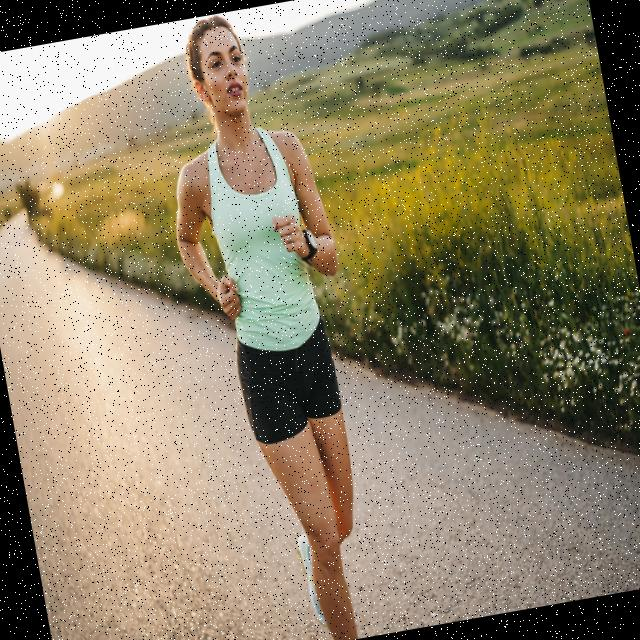Person: (139, 0, 403, 640)
